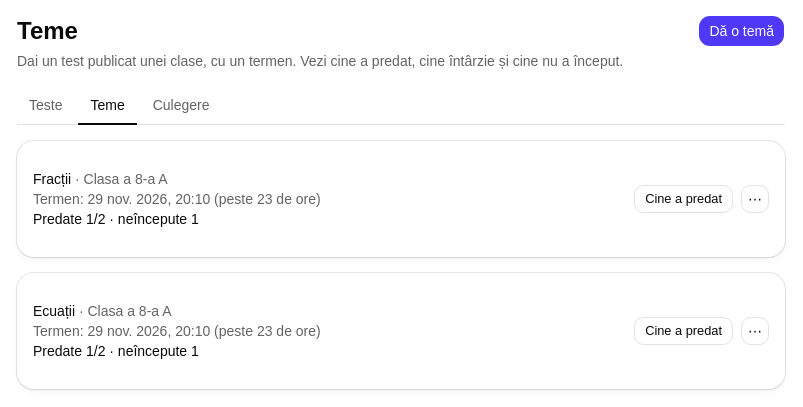
Test: AdminAssignmentsPage › keeps changing and deleting a homework behind the ⋯ menu, deleting last
Expected: the button "Șterge" is not shown
Click the button named "Mai multe acțiuni pentru ". click: (755, 199)
box: [741,185,769,213]
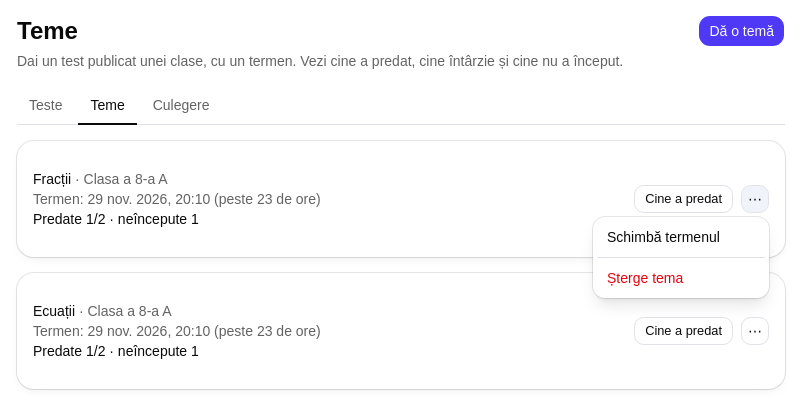
Expected: the menu items read "Schimbă termenul", "Șterge tema", in this order, [607,229,720,245]; [607,270,683,286]
